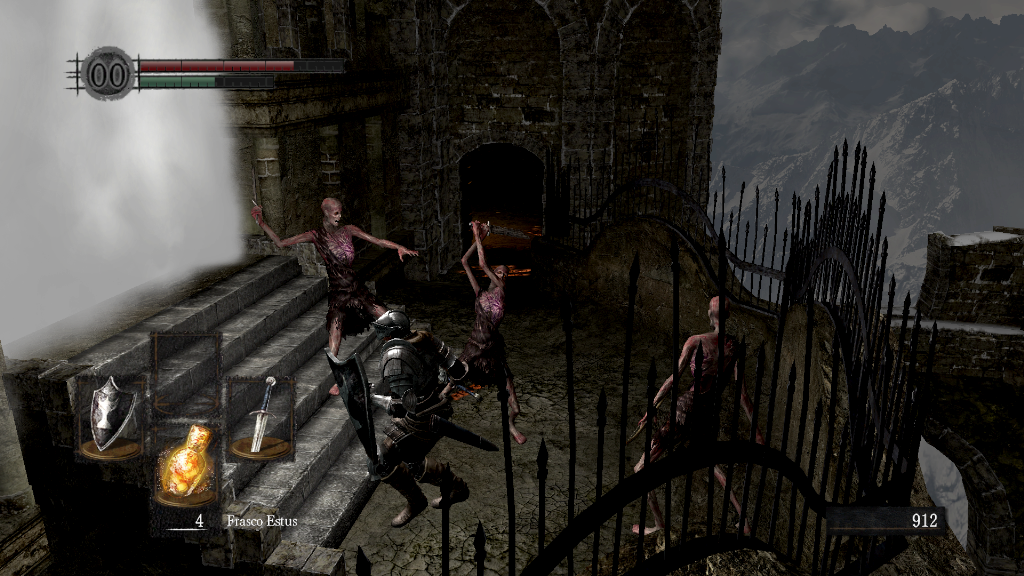health: (138, 58, 343, 71)
hollow: (247, 192, 425, 394), (626, 294, 758, 541), (448, 216, 534, 444)
humanity: (80, 45, 136, 102)
player: (322, 312, 502, 529)
souls: (825, 506, 945, 536)
stamina: (138, 74, 274, 88)
